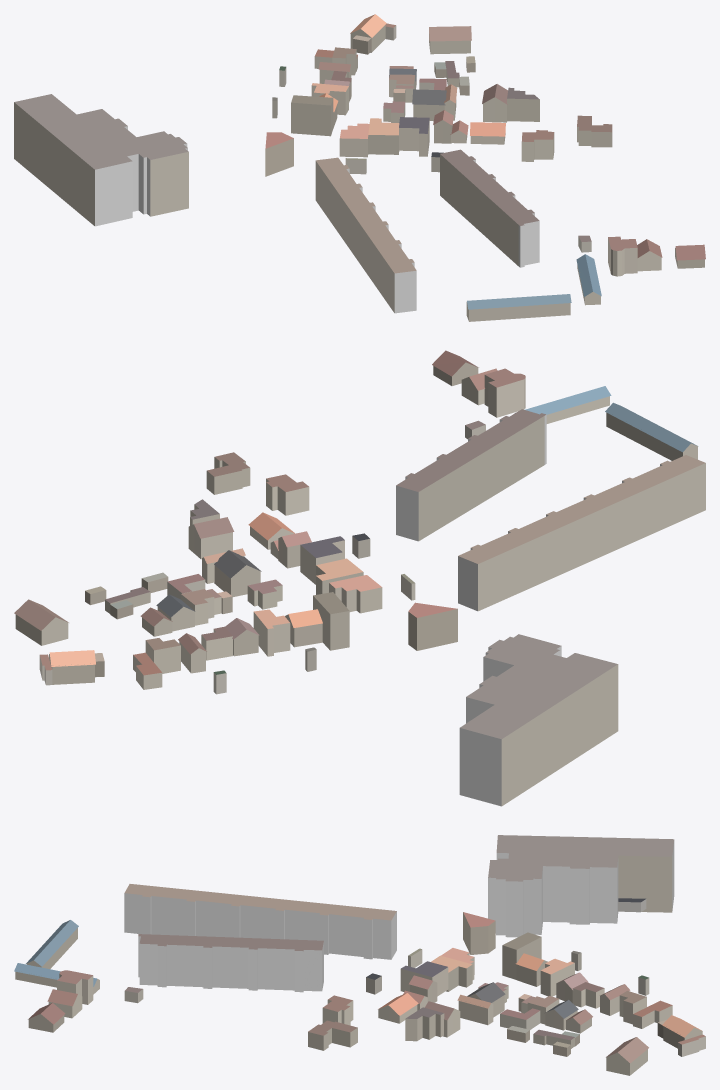
3 renders of one model, top to bottom at view 1: azimuth 30°, elevation 25°; view 2: azimuth 150°, elevation 25°; view 3: azimuth 270°, elevation 25°, orthographic. The views are drawn at different scales.
Visible parts, largest first — view 1: tuile; view 2: tuile; view 3: tuile.
Boxes of the visible parts, x1=… form: tuile: x1=14, y1=14, x2=705, y2=321; tuile: x1=14, y1=350, x2=705, y2=806; tuile: x1=14, y1=835, x2=705, y2=1075.
Size of the model in its own units: 190 by 30.58 by 261.
